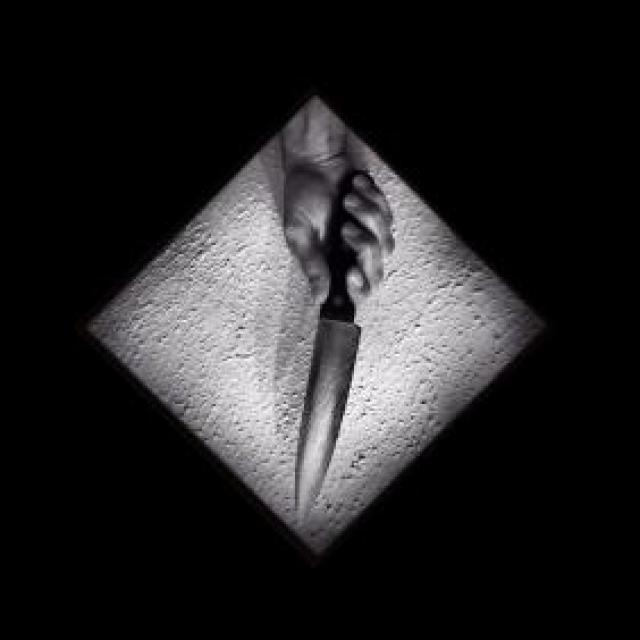knife: (287, 171, 368, 534)
